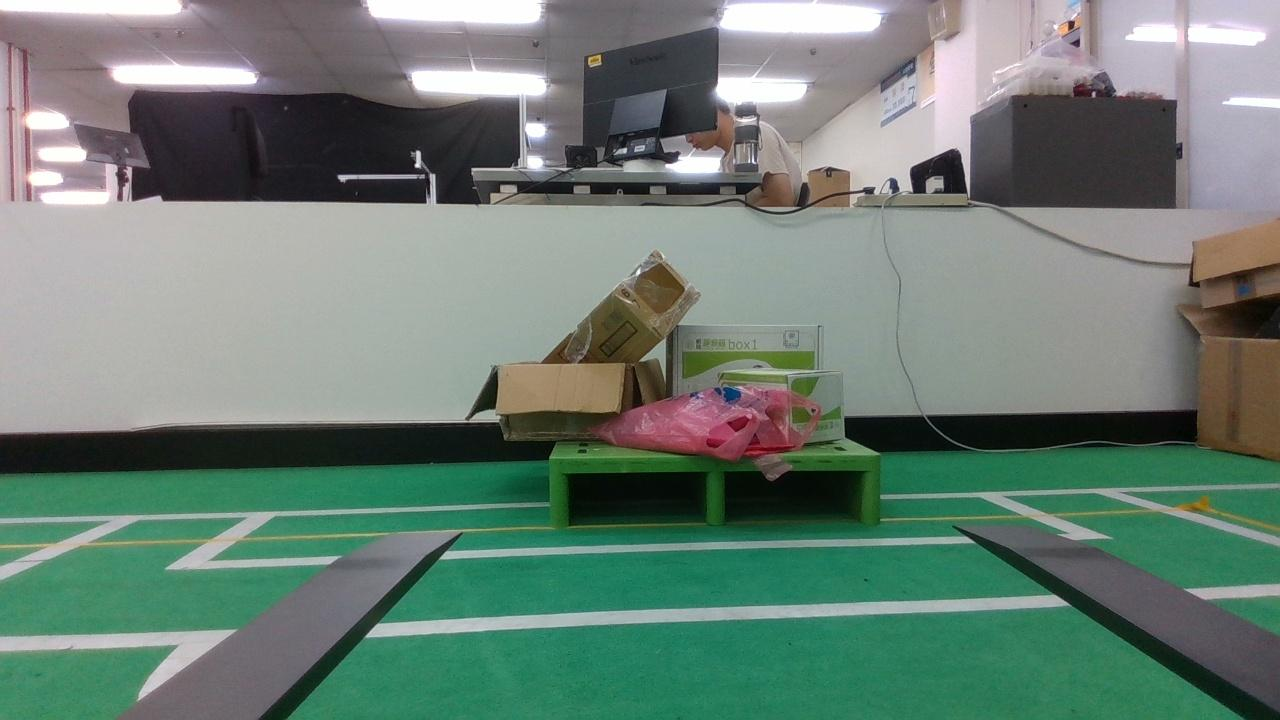Pallet: (549, 454, 881, 529)
